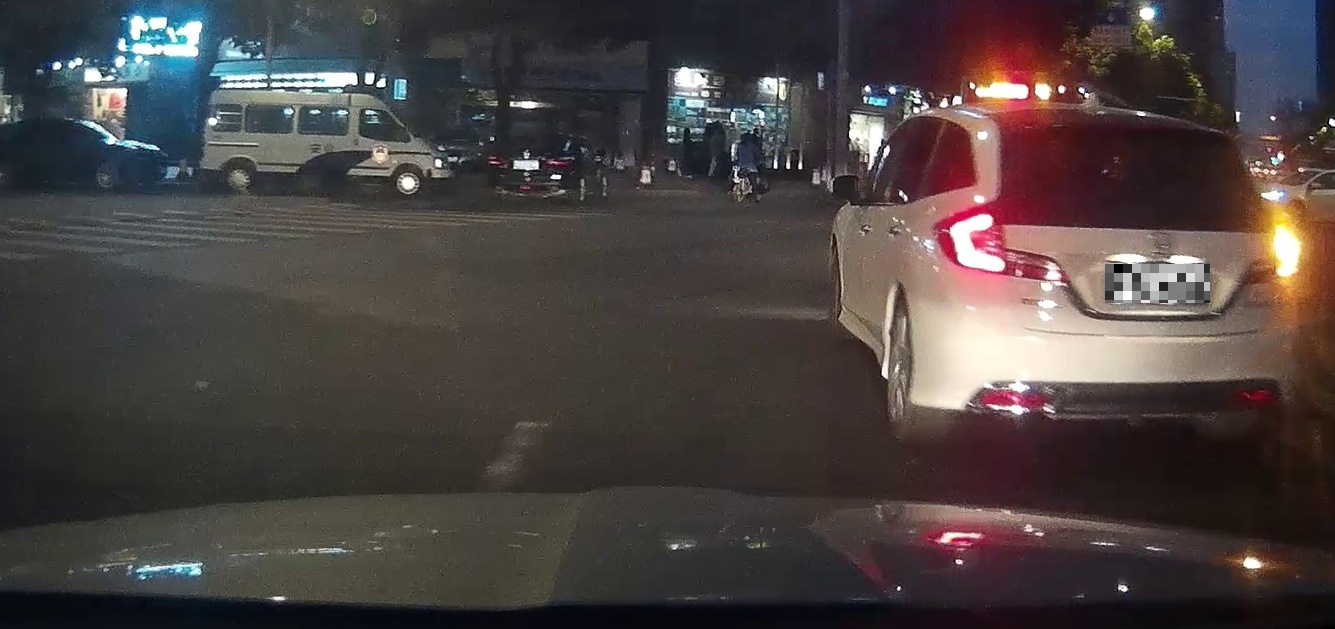L_light: (933, 205, 1066, 282)
R_light: (1240, 225, 1302, 282)
T_light: (1093, 129, 1160, 140)
night-no: (928, 104, 1301, 449)
plate_1: (1105, 264, 1210, 303)
